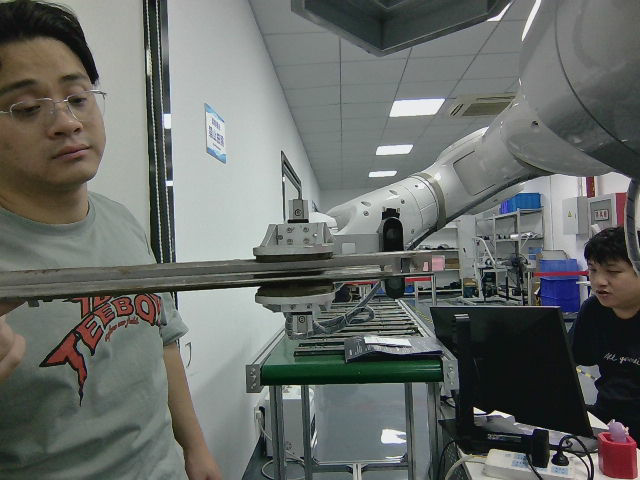down: (2, 249, 434, 298)
